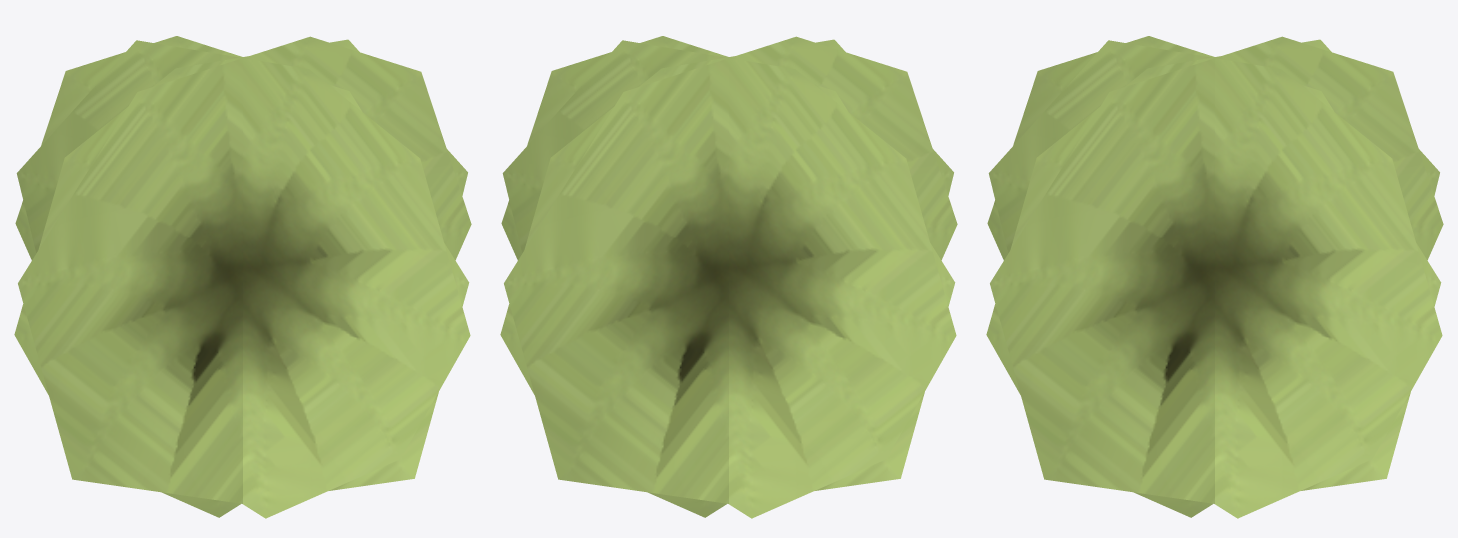
Rendered from HP3_weed023 1.fbx.
3 views of the same model, side by side, from view 1: azimuth 30°, elevation 25°; view 2: azimuth 150°, elevation 25°; view 3: azimuth 270°, elevation 25° (orthographic).
Parts seen in each view (by area): view 1: HP3_weed023; view 2: HP3_weed023; view 3: HP3_weed023.
Boxes of the visible parts, bbox=[...] form: HP3_weed023: bbox=[14, 36, 471, 518]; HP3_weed023: bbox=[500, 36, 957, 518]; HP3_weed023: bbox=[986, 36, 1443, 518].
Size of the model in its own units: 10 by 9.64 by 8.68.
